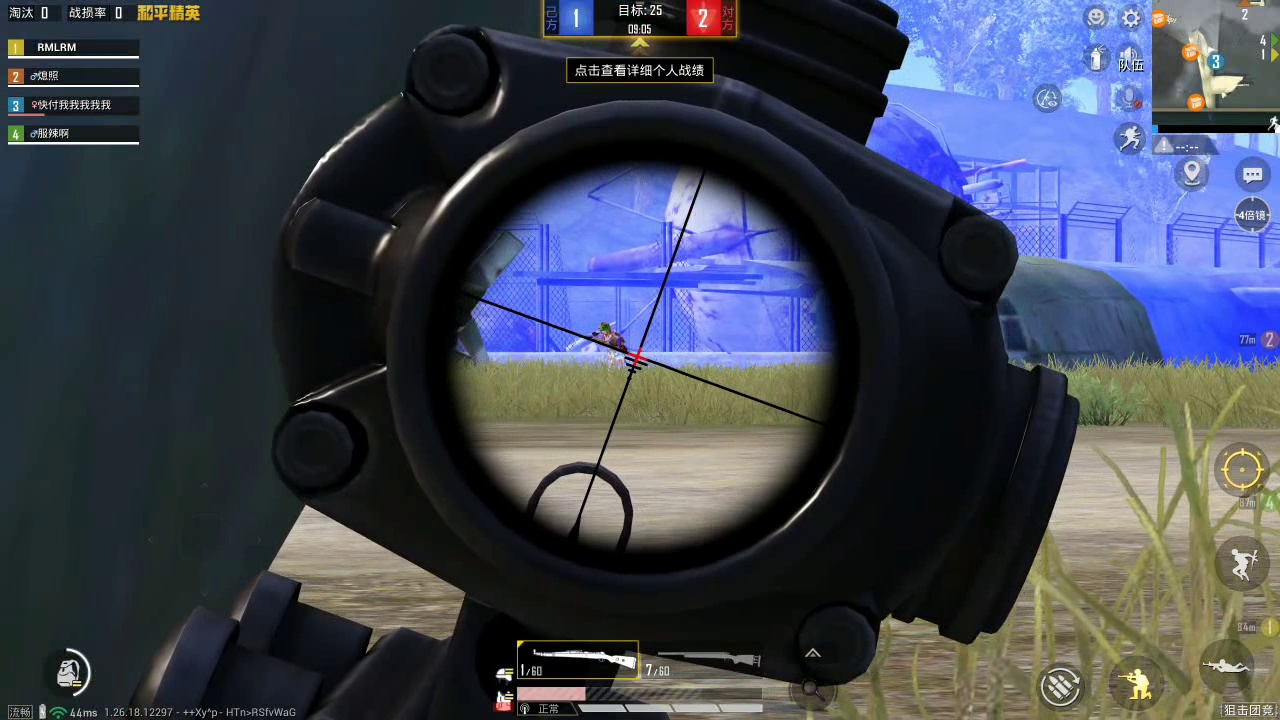enemy: (591, 322, 629, 367)
